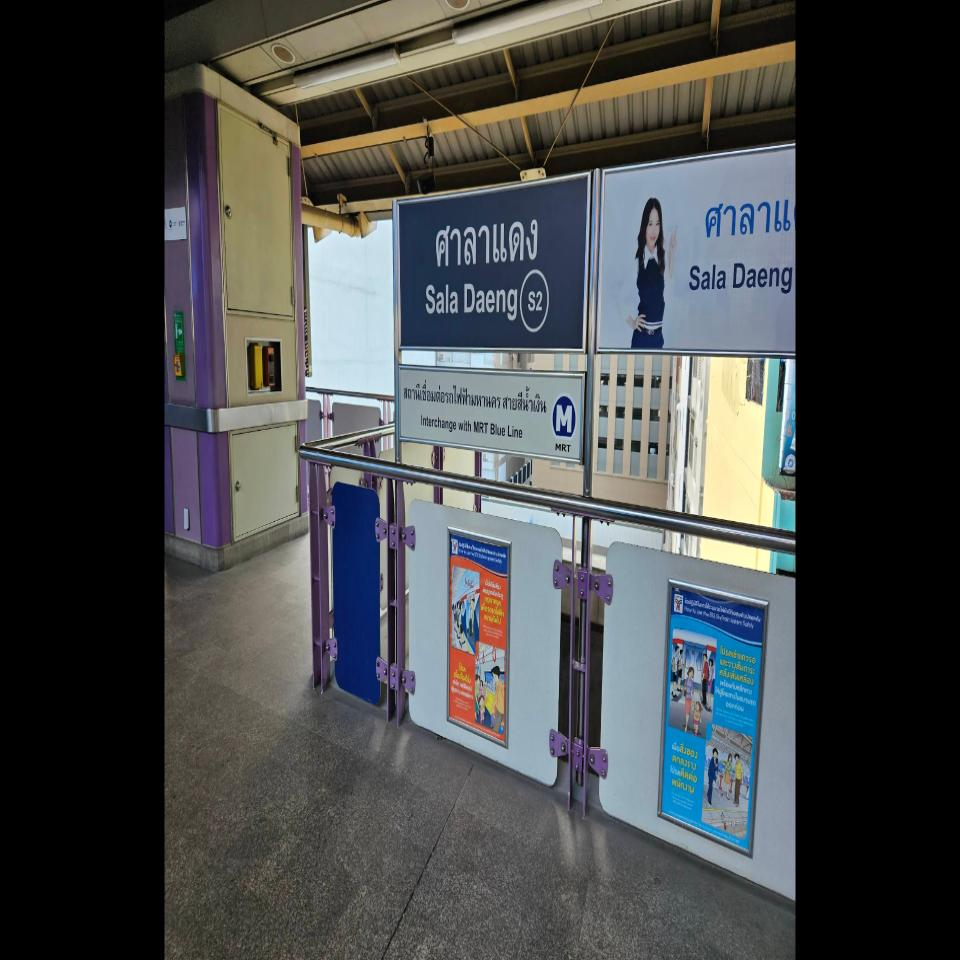signage: (396, 169, 592, 355)
